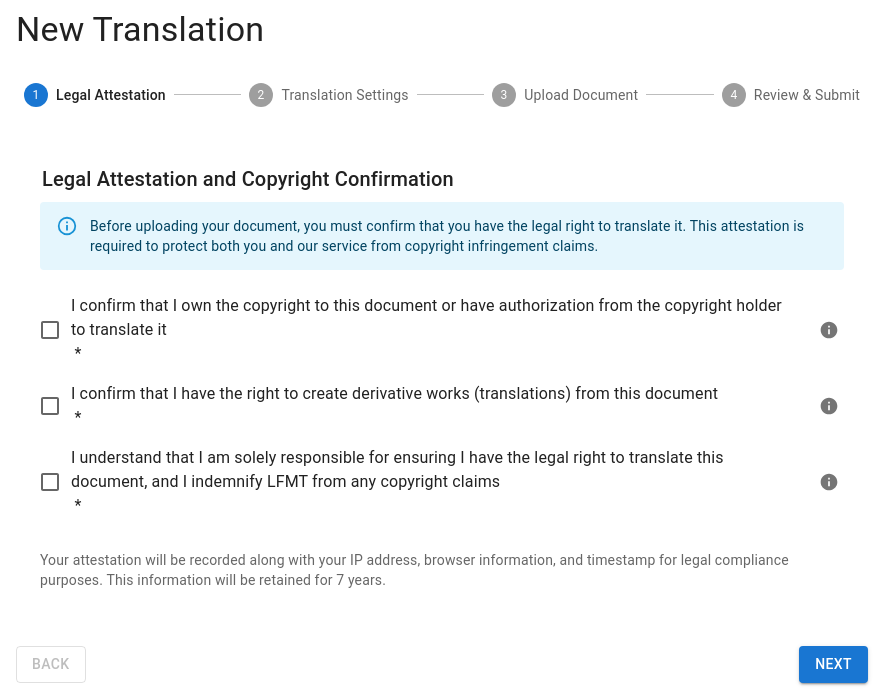
Test: TranslationUpload › Step 1: Legal Attestation Validation › should show validation errors when clicking Next without accepting terms
Click the button "Next". click: (834, 664)
box: [799,646,868,682]
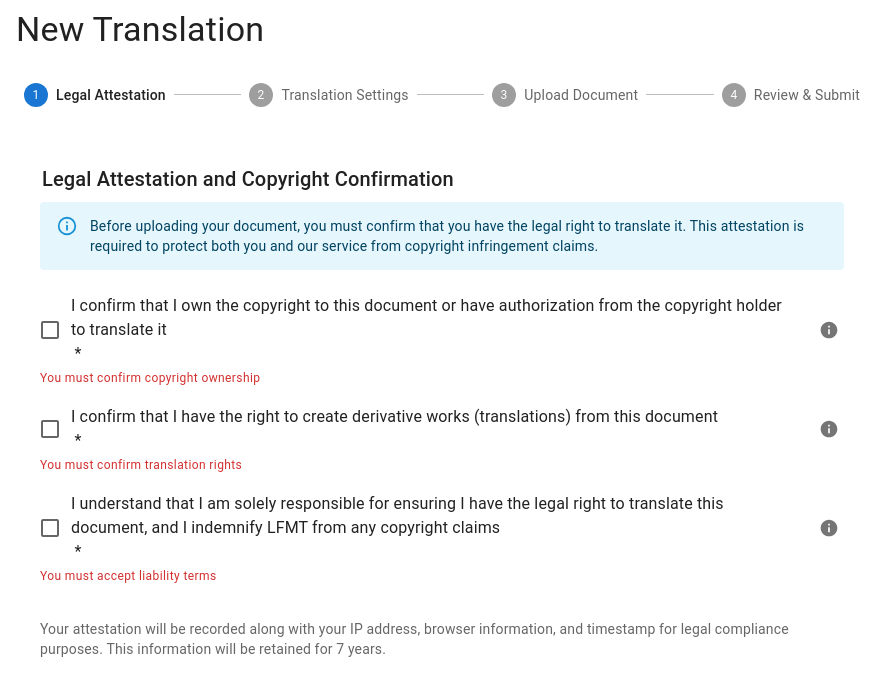
Now the text "You must confirm copyright ownership" is shown, box [40,371,260,385]
Now the text "You must confirm translation rights" is shown, box [40,458,242,472]
Now the text "You must accept liability terms" is shown, box [40,569,216,583]
